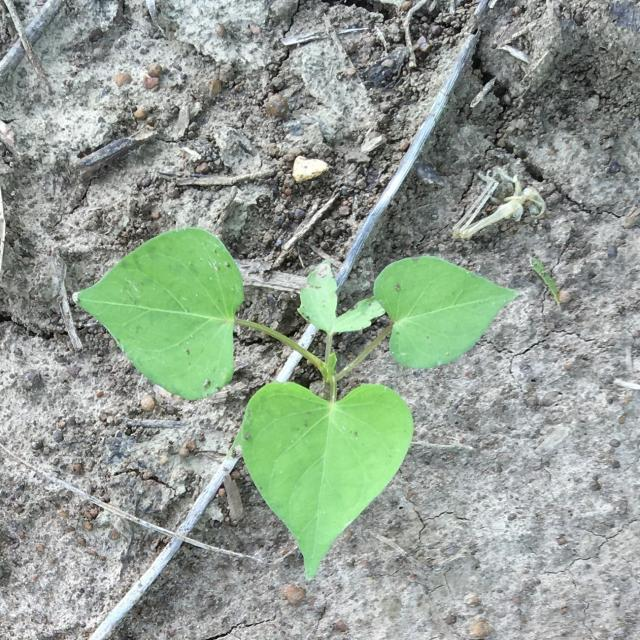MorningGlory: (75, 228, 519, 582)
